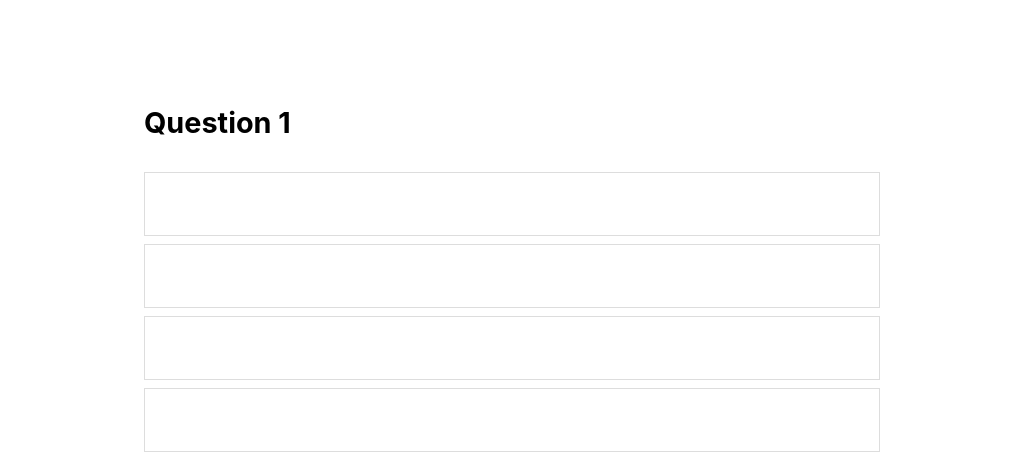
Test: Carousel — interaction › shows Next Question link on non-last question after answer
Click the 1st button at x=512, y=204, box [144,172,880,236]
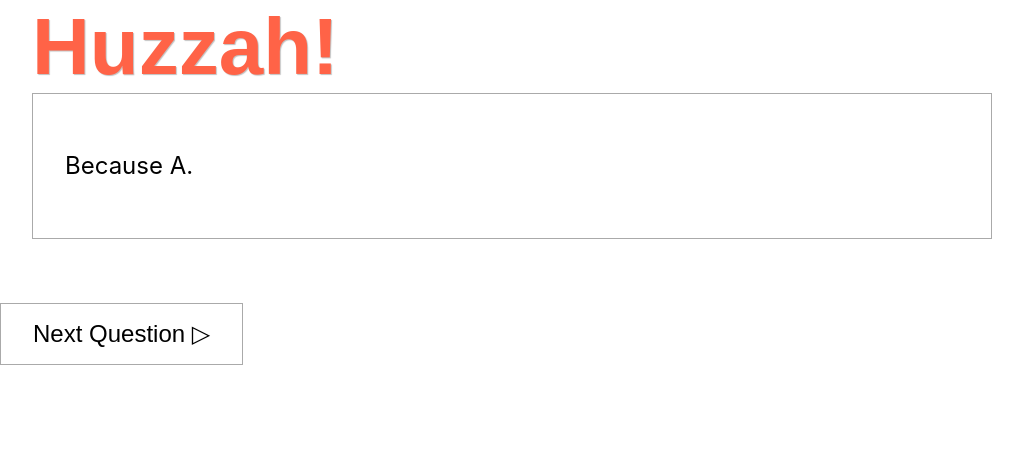
Result: the link "Next Question ▷" is shown at [0,303,243,365]
